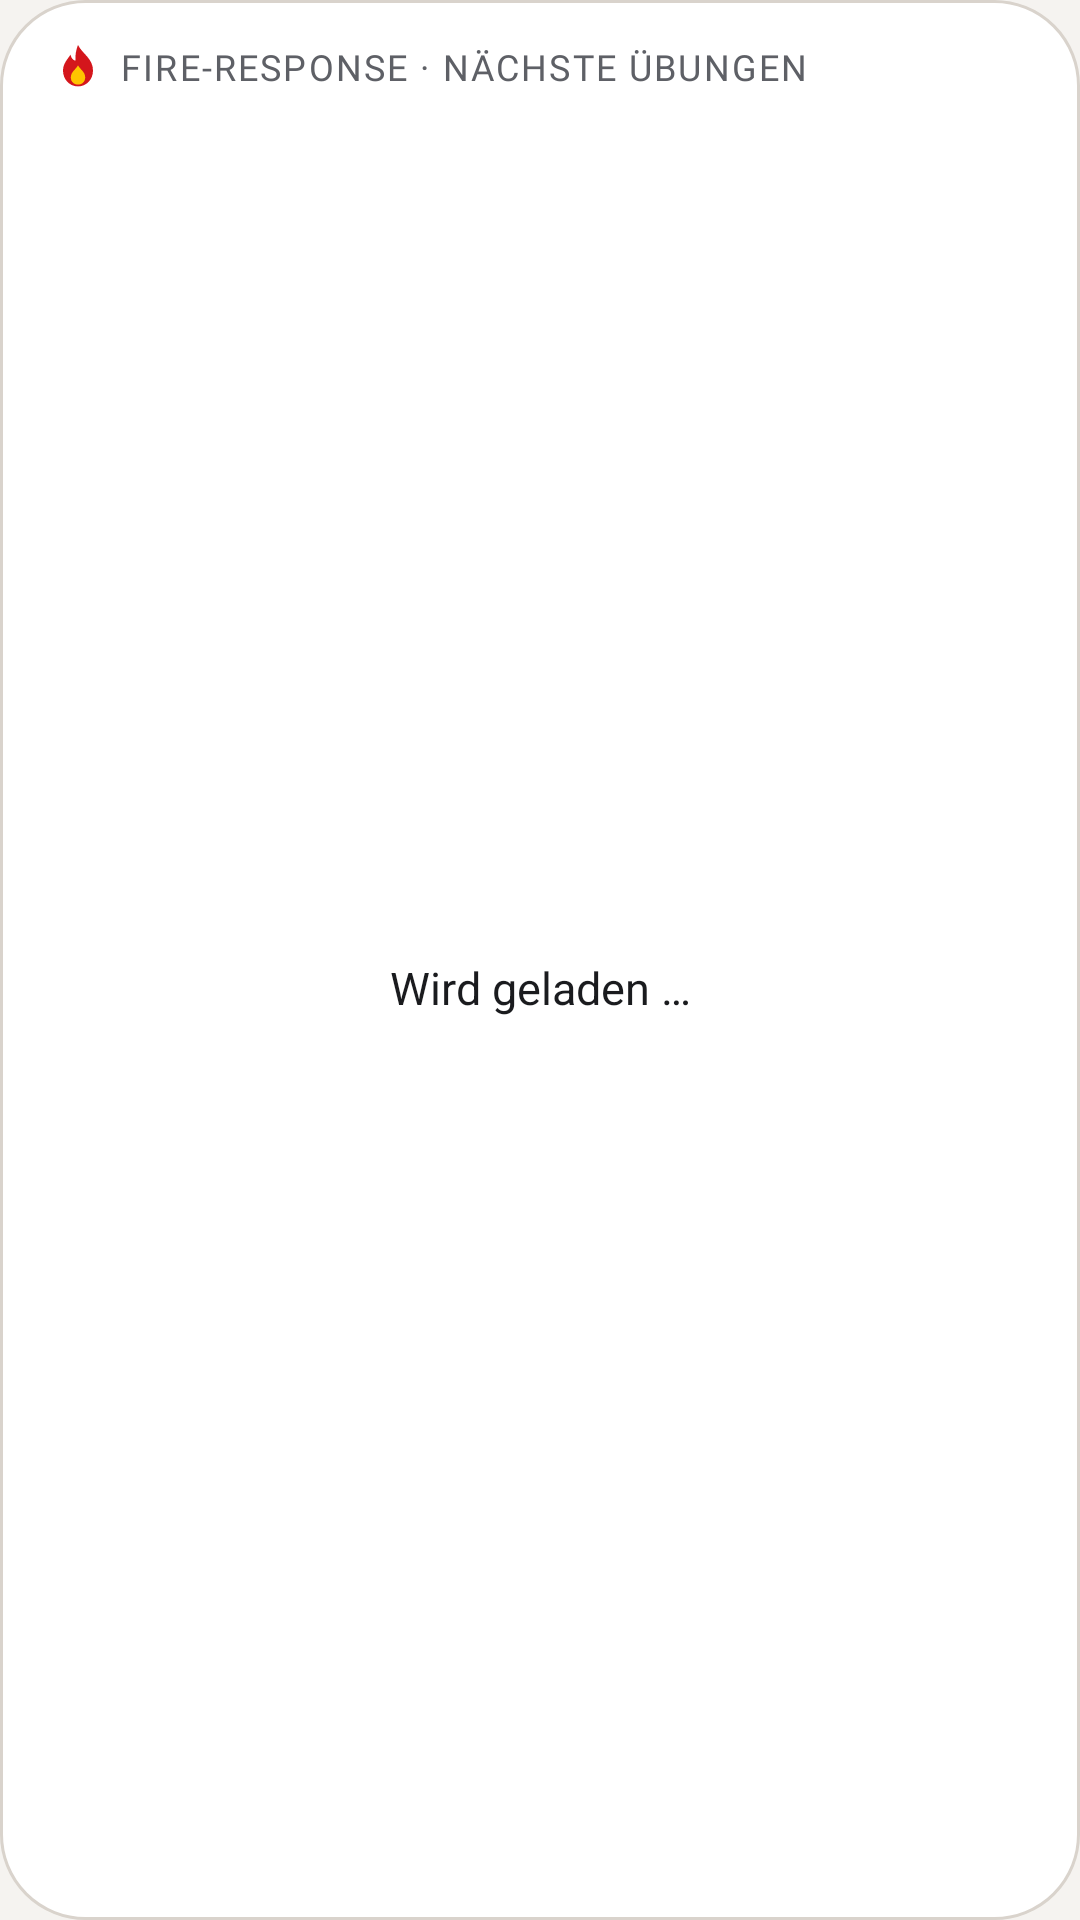

Screen size 1080*1920. Icon name, then its center in pixels as point (x, y):
widget flame: point (78, 66)
